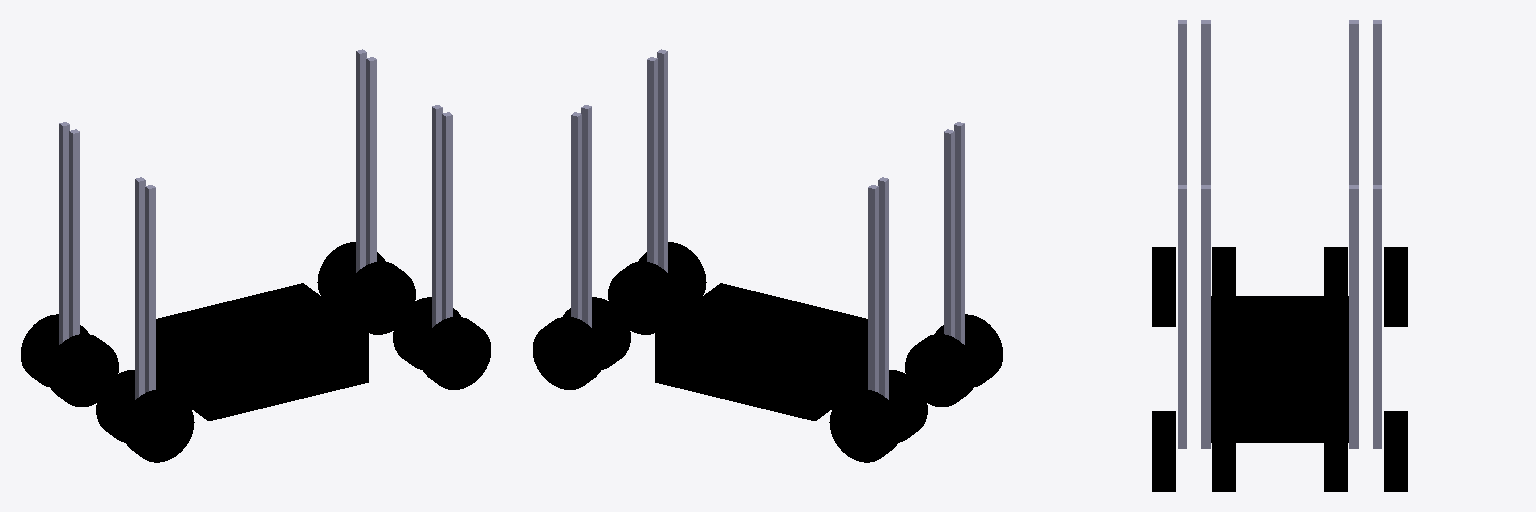
The robot description file, URDF, robot "quadruped":
<?xml version="1.0" ?>
<robot name="quadruped">
  <link name="base_chassis_link">
    <visual>
      <geometry>
        <box size=".226 0.16 .07"/>
      </geometry>
      <material name="black">
        <color rgba="0 0 0 1"/>
      </material>
    </visual>
    <collision>
      <geometry>
       <box size=".226 0.16 .07"/>
      </geometry>
    </collision>
    <inertial>
      <mass value="3.2"/>
      <inertia ixx="1.0" ixy="0.0" ixz="0.0" iyy="1.0" iyz="0.0" izz="1.0"/>
    </inertial>
  </link>
  
  
  <link name="motor_front_rightR_link">
    <visual>
      <geometry>
        <cylinder length="0.026" radius="0.0434"/>
      </geometry>
      <material name="black"/>
    </visual>
    <collision>
      <geometry>
        <cylinder length="0.026" radius="0.0434"/>
      </geometry>
    </collision>
    <inertial>
      <mass value="0.25"/>
      <inertia ixx="1.0" ixy="0.0" ixz="0.0" iyy="1.0" iyz="0.0" izz="1.0"/>
    </inertial>
  </link>
  <joint name="motor_front_rightR_joint" type="continuous">
    <axis xyz="0 0 1"/>
    <parent link="base_chassis_link"/>
    <child link="motor_front_rightR_link"/>
    <origin rpy="1.57075 0 0" xyz="0.21 -0.125 0"/>
    <limit effort="100" velocity="100"/>
    <joint_properties damping="0.0" friction="0.0"/>
  </joint>


	<link name="motor_front_rightL_link">
    <visual>
      <geometry>
        <cylinder length="0.026" radius="0.0434"/>
      </geometry>
      <material name="black"/>
    </visual>
    <collision>
      <geometry>
        <cylinder length="0.026" radius="0.0434"/>
      </geometry>
    </collision>
    <inertial>
      <mass value="0.25"/>
      <inertia ixx="1.0" ixy="0.0" ixz="0.0" iyy="1.0" iyz="0.0" izz="1.0"/>
    </inertial>
  </link>
  <joint name="motor_front_rightL_joint" type="continuous">
    <axis xyz="0 0 1"/>
    <parent link="base_chassis_link"/>
    <child link="motor_front_rightL_link"/>
    <origin rpy="1.57075 0 0" xyz="0.21 -0.06 0"/>
    <limit effort="100" velocity="100"/>
    <joint_properties damping="0.0" friction="0.0"/>
  </joint>
  
  
  <link name="motor_front_leftR_link">
    <visual>
      <geometry>
        <cylinder length="0.026" radius="0.0434"/>
      </geometry>
      <material name="black"/>
    </visual>
    <collision>
      <geometry>
        <cylinder length="0.026" radius="0.0434"/>
      </geometry>
    </collision>
    <inertial>
      <mass value="0.25"/>
      <inertia ixx="1.0" ixy="0.0" ixz="0.0" iyy="1.0" iyz="0.0" izz="1.0"/>
    </inertial>
  </link>
  <joint name="motor_front_leftR_joint" type="continuous">
    <axis xyz="0 0 1"/>
    <parent link="base_chassis_link"/>
    <child link="motor_front_leftR_link"/>
    <origin rpy="1.57075 0 0" xyz="0.21 0.125 0"/>
    <limit effort="100" velocity="100"/>
    <joint_properties damping="0.0" friction="0.0"/>
  </joint>


	<link name="motor_front_leftL_link">
    <visual>
      <geometry>
        <cylinder length="0.026" radius="0.0434"/>
      </geometry>
      <material name="black"/>
    </visual>
    <collision>
      <geometry>
        <cylinder length="0.026" radius="0.0434"/>
      </geometry>
    </collision>
    <inertial>
      <mass value="0.25"/>
      <inertia ixx="1.0" ixy="0.0" ixz="0.0" iyy="1.0" iyz="0.0" izz="1.0"/>
    </inertial>
  </link>
  <joint name="motor_front_leftL_joint" type="continuous">
    <axis xyz="0 0 1"/>
    <parent link="base_chassis_link"/>
    <child link="motor_front_leftL_link"/>
    <origin rpy="1.57075 0 0" xyz="0.21 0.06 0"/>
    <limit effort="100" velocity="100"/>
    <joint_properties damping="0.0" friction="0.0"/>
  </joint>
  
  
  <link name="motor_back_rightR_link">
    <visual>
      <geometry>
        <cylinder length="0.026" radius="0.0434"/>
      </geometry>
      <material name="black"/>
    </visual>
    <collision>
      <geometry>
        <cylinder length="0.026" radius="0.0434"/>
      </geometry>
    </collision>
    <inertial>
      <mass value="0.25"/>
      <inertia ixx="1.0" ixy="0.0" ixz="0.0" iyy="1.0" iyz="0.0" izz="1.0"/>
    </inertial>
  </link>
  <joint name="motor_back_rightR_joint" type="continuous">
    <axis xyz="0 0 1"/>
    <parent link="base_chassis_link"/>
    <child link="motor_back_rightR_link"/>
    <origin rpy="1.57075 0 0" xyz="-0.21 -0.125 0"/>
    <limit effort="100" velocity="100"/>
    <joint_properties damping="0.0" friction="0.0"/>
  </joint>


	<link name="motor_back_rightL_link">
    <visual>
      <geometry>
        <cylinder length="0.026" radius="0.0434"/>
      </geometry>
      <material name="black"/>
    </visual>
    <collision>
      <geometry>
        <cylinder length="0.026" radius="0.0434"/>
      </geometry>
    </collision>
    <inertial>
      <mass value="0.25"/>
      <inertia ixx="1.0" ixy="0.0" ixz="0.0" iyy="1.0" iyz="0.0" izz="1.0"/>
    </inertial>
  </link>
  <joint name="motor_back_rightL_joint" type="continuous">
    <axis xyz="0 0 1"/>
    <parent link="base_chassis_link"/>
    <child link="motor_back_rightL_link"/>
    <origin rpy="1.57075 0 0" xyz="-0.21 -0.06 0"/>
    <limit effort="100" velocity="100"/>
    <joint_properties damping="0.0" friction="0.0"/>
  </joint>
  
  
  <link name="motor_back_leftR_link">
    <visual>
      <geometry>
        <cylinder length="0.026" radius="0.0434"/>
      </geometry>
      <material name="black"/>
    </visual>
    <collision>
      <geometry>
        <cylinder length="0.026" radius="0.0434"/>
      </geometry>
    </collision>
    <inertial>
      <mass value="0.25"/>
      <inertia ixx="1.0" ixy="0.0" ixz="0.0" iyy="1.0" iyz="0.0" izz="1.0"/>
    </inertial>
  </link>
  <joint name="motor_back_leftR_joint" type="continuous">
    <axis xyz="0 0 1"/>
    <parent link="base_chassis_link"/>
    <child link="motor_back_leftR_link"/>
    <origin rpy="1.57075 0 0" xyz="-0.21 0.125 0"/>
    <limit effort="100" velocity="100"/>
    <joint_properties damping="0.0" friction="0.0"/>
  </joint>


	<link name="motor_back_leftL_link">
    <visual>
      <geometry>
        <cylinder length="0.026" radius="0.0434"/>
      </geometry>
      <material name="black"/>
    </visual>
    <collision>
      <geometry>
        <cylinder length="0.026" radius="0.0434"/>
      </geometry>
    </collision>
    <inertial>
      <mass value="0.25"/>
      <inertia ixx="1.0" ixy="0.0" ixz="0.0" iyy="1.0" iyz="0.0" izz="1.0"/>
    </inertial>
  </link>
  <joint name="motor_back_leftL_joint" type="continuous">
    <axis xyz="0 0 1"/>
    <parent link="base_chassis_link"/>
    <child link="motor_back_leftL_link"/>
    <origin rpy="1.57075 0 0" xyz="-0.21 0.06 0"/>
    <limit effort="100" velocity="100"/>
    <joint_properties damping="0.0" friction="0.0"/>
  </joint>
  
  
  <link name="upper_leg_back_leftL_link">
    <visual>
      <geometry>
        <box size=".01 0.01 .11"/>
      </geometry>
      <material name="grey">
        <color rgba="0.65 0.65 0.75 1"/>
      </material>
    </visual>
    <collision>
      <geometry>
        <box size=".01 0.01 .11"/>
      </geometry>
    </collision>
    <inertial>
      <mass value="0.05"/>
      <inertia ixx="1.0" ixy="0.0" ixz="0.0" iyy="1.0" iyz="0.0" izz="1.0"/>
    </inertial>
  </link>
  <joint name="motor_back_leftL_link" type="fixed">
    <axis xyz="0 0 1"/>
    <parent link="motor_back_leftL_link"/>
    <child link="upper_leg_back_leftL_link"/>
    <origin rpy="-1.57075 0 0" xyz="0.0 0.06 -0.02"/>
    <limit effort="100" velocity="100"/>
    <joint_properties damping="0.0" friction="0.0"/>
  </joint>

	<link name="upper_leg_back_leftR_link">
    <visual>
      <geometry>
        <box size=".01 0.01 .11"/>
      </geometry>
      <material name="grey">
        <color rgba="0.65 0.65 0.75 1"/>
      </material>
    </visual>
    <collision>
      <geometry>
        <box size=".01 0.01 .11"/>
      </geometry>
    </collision>
    <inertial>
      <mass value="0.05"/>
      <inertia ixx="1.0" ixy="0.0" ixz="0.0" iyy="1.0" iyz="0.0" izz="1.0"/>
    </inertial>
  </link>
  <joint name="hip_leftR_link" type="fixed">
    <axis xyz="0 0 1"/>
    <parent link="motor_back_leftR_link"/>
    <child link="upper_leg_back_leftR_link"/>
    <origin rpy="-1.57075 0 0" xyz="0.0 0.06 0.02"/>
    <limit effort="100" velocity="100"/>
    <joint_properties damping="0.0" friction="0.0"/>
  </joint>

	<link name="lower_leg_back_leftR_link">
    <visual>
    	<origin rpy="0.0 0 0" xyz="0 0 .1"/>
      <geometry>
        <box size=".01 0.01 .2"/>
      </geometry>
      <material name="grey">
        <color rgba="0.65 0.65 0.75 1"/>
      </material>
    </visual>
    <collision>
    	<origin rpy="0.0 0 0" xyz="0 0 .1"/>
      <geometry>
        <box size=".01 0.01 .2"/>
      </geometry>
    </collision>
    <inertial>
      <mass value="0.05"/>
      <inertia ixx="1.0" ixy="0.0" ixz="0.0" iyy="1.0" iyz="0.0" izz="1.0"/>
    </inertial>
  </link>
  <joint name="knee_back_leftR_link" type="revolute">
    <axis xyz="0 1 0"/>
    <parent link="upper_leg_back_leftR_link"/>
    <child link="lower_leg_back_leftR_link"/>
    <origin rpy="0 0 0" xyz="0.0 0.0 .055"/>
    <limit effort="100" velocity="100"/>
    <joint_properties damping="0.0" friction="0.0"/>
  </joint>
  
  <link name="lower_leg_back_leftL_link">
    <visual>
    	<origin rpy="0.0 0 0" xyz="0 0 .1"/>
      <geometry>
        <box size=".01 0.01 .2"/>
      </geometry>
      <material name="grey">
        <color rgba="0.65 0.65 0.75 1"/>
      </material>
    </visual>
    <collision>
    	<origin rpy="0.0 0 0" xyz="0 0 .1"/>
      <geometry>
        <box size=".01 0.01 .2"/>
      </geometry>
    </collision>
    <inertial>
      <mass value="0.05"/>
      <inertia ixx="1.0" ixy="0.0" ixz="0.0" iyy="1.0" iyz="0.0" izz="1.0"/>
    </inertial>
  </link>
  <joint name="knee_back_leftL_link" type="revolute">
    <axis xyz="0 1 0"/>
    <parent link="upper_leg_back_leftL_link"/>
    <child link="lower_leg_back_leftL_link"/>
    <origin rpy="0 0 0" xyz="0.0 0.0 .055"/>
    <limit effort="100" velocity="100"/>
    <joint_properties damping="0.0" friction="0.0"/>
  </joint>
  
  <link name="upper_leg_front_leftL_link">
    <visual>
      <geometry>
        <box size=".01 0.01 .11"/>
      </geometry>
      <material name="grey">
        <color rgba="0.65 0.65 0.75 1"/>
      </material>
    </visual>
    <collision>
      <geometry>
        <box size=".01 0.01 .11"/>
      </geometry>
    </collision>
    <inertial>
      <mass value="0.05"/>
      <inertia ixx="1.0" ixy="0.0" ixz="0.0" iyy="1.0" iyz="0.0" izz="1.0"/>
    </inertial>
  </link>
  <joint name="motor_front_leftL_link" type="fixed">
    <axis xyz="0 0 1"/>
    <parent link="motor_front_leftL_link"/>
    <child link="upper_leg_front_leftL_link"/>
    <origin rpy="-1.57075 0 0" xyz="0.0 0.06 -0.02"/>
    <limit effort="100" velocity="100"/>
    <joint_properties damping="0.0" friction="0.0"/>
  </joint>

	<link name="upper_leg_front_leftR_link">
    <visual>
      <geometry>
        <box size=".01 0.01 .11"/>
      </geometry>
      <material name="grey">
        <color rgba="0.65 0.65 0.75 1"/>
      </material>
    </visual>
    <collision>
      <geometry>
        <box size=".01 0.01 .11"/>
      </geometry>
    </collision>
    <inertial>
      <mass value="0.05"/>
      <inertia ixx="1.0" ixy="0.0" ixz="0.0" iyy="1.0" iyz="0.0" izz="1.0"/>
    </inertial>
  </link>
  <joint name="hip_front_leftR_link" type="fixed">
    <axis xyz="0 0 1"/>
    <parent link="motor_front_leftR_link"/>
    <child link="upper_leg_front_leftR_link"/>
    <origin rpy="-1.57075 0 0" xyz="0.0 0.06 0.02"/>
    <limit effort="100" velocity="100"/>
    <joint_properties damping="0.0" friction="0.0"/>
  </joint>

	<link name="lower_leg_front_leftR_link">
    <visual>
    	<origin rpy="0.0 0 0" xyz="0 0 .1"/>
      <geometry>
        <box size=".01 0.01 .2"/>
      </geometry>
      <material name="grey">
        <color rgba="0.65 0.65 0.75 1"/>
      </material>
    </visual>
    <collision>
    	<origin rpy="0.0 0 0" xyz="0 0 .1"/>
      <geometry>
        <box size=".01 0.01 .2"/>
      </geometry>
    </collision>
    <inertial>
      <mass value="0.05"/>
      <inertia ixx="1.0" ixy="0.0" ixz="0.0" iyy="1.0" iyz="0.0" izz="1.0"/>
    </inertial>
  </link>
  <joint name="knee_front_leftR_link" type="revolute">
    <axis xyz="0 1 0"/>
    <parent link="upper_leg_front_leftR_link"/>
    <child link="lower_leg_front_leftR_link"/>
    <origin rpy="0 0 0" xyz="0.0 0.0 .055"/>
    <limit effort="100" velocity="100"/>
    <joint_properties damping="0.0" friction="0.0"/>
  </joint>
  
  <link name="lower_leg_front_leftL_link">
    <visual>
    	<origin rpy="0.0 0 0" xyz="0 0 .1"/>
      <geometry>
        <box size=".01 0.01 .2"/>
      </geometry>
      <material name="grey">
        <color rgba="0.65 0.65 0.75 1"/>
      </material>
    </visual>
    <collision>
    	<origin rpy="0.0 0 0" xyz="0 0 .1"/>
      <geometry>
        <box size=".01 0.01 .2"/>
      </geometry>
    </collision>
    <inertial>
      <mass value="0.05"/>
      <inertia ixx="1.0" ixy="0.0" ixz="0.0" iyy="1.0" iyz="0.0" izz="1.0"/>
    </inertial>
  </link>
  <joint name="knee_front_leftL_link" type="revolute">
    <axis xyz="0 1 0"/>
    <parent link="upper_leg_front_leftL_link"/>
    <child link="lower_leg_front_leftL_link"/>
    <origin rpy="0 0 0" xyz="0.0 0.0 .055"/>
    <limit effort="100" velocity="100"/>
    <joint_properties damping="0.0" friction="0.0"/>
  </joint>
  
  
  
  
  <link name="upper_leg_back_rightL_link">
    <visual>
      <geometry>
        <box size=".01 0.01 .11"/>
      </geometry>
      <material name="grey">
        <color rgba="0.65 0.65 0.75 1"/>
      </material>
    </visual>
    <collision>
      <geometry>
        <box size=".01 0.01 .11"/>
      </geometry>
    </collision>
    <inertial>
      <mass value="0.05"/>
      <inertia ixx="1.0" ixy="0.0" ixz="0.0" iyy="1.0" iyz="0.0" izz="1.0"/>
    </inertial>
  </link>
  <joint name="motor_back_rightL_link" type="fixed">
    <axis xyz="0 0 1"/>
    <parent link="motor_back_rightL_link"/>
    <child link="upper_leg_back_rightL_link"/>
    <origin rpy="-1.57075 0 0" xyz="0.0 0.06 0.02"/>
    <limit effort="100" velocity="100"/>
    <joint_properties damping="0.0" friction="0.0"/>
  </joint>

	<link name="upper_leg_back_rightR_link">
    <visual>
      <geometry>
        <box size=".01 0.01 .11"/>
      </geometry>
      <material name="grey">
        <color rgba="0.65 0.65 0.75 1"/>
      </material>
    </visual>
    <collision>
      <geometry>
        <box size=".01 0.01 .11"/>
      </geometry>
    </collision>
    <inertial>
      <mass value="0.05"/>
      <inertia ixx="1.0" ixy="0.0" ixz="0.0" iyy="1.0" iyz="0.0" izz="1.0"/>
    </inertial>
  </link>
  <joint name="hip_rightR_link" type="fixed">
    <axis xyz="0 0 1"/>
    <parent link="motor_back_rightR_link"/>
    <child link="upper_leg_back_rightR_link"/>
    <origin rpy="-1.57075 0 0" xyz="0.0 0.06 -0.02"/>
    <limit effort="100" velocity="100"/>
    <joint_properties damping="0.0" friction="0.0"/>
  </joint>

	<link name="lower_leg_back_rightR_link">
    <visual>
    	<origin rpy="0.0 0 0" xyz="0 0 .1"/>
      <geometry>
        <box size=".01 0.01 .2"/>
      </geometry>
      <material name="grey">
        <color rgba="0.65 0.65 0.75 1"/>
      </material>
    </visual>
    <collision>
    	<origin rpy="0.0 0 0" xyz="0 0 .1"/>
      <geometry>
        <box size=".01 0.01 .2"/>
      </geometry>
    </collision>
    <inertial>
      <mass value="0.05"/>
      <inertia ixx="1.0" ixy="0.0" ixz="0.0" iyy="1.0" iyz="0.0" izz="1.0"/>
    </inertial>
  </link>
  <joint name="knee_back_rightR_link" type="revolute">
    <axis xyz="0 1 0"/>
    <parent link="upper_leg_back_rightR_link"/>
    <child link="lower_leg_back_rightR_link"/>
    <origin rpy="0 0 0" xyz="0.0 0.0 .055"/>
    <limit effort="100" velocity="100"/>
    <joint_properties damping="0.0" friction="0.0"/>
  </joint>
  
  <link name="lower_leg_back_rightL_link">
    <visual>
    	<origin rpy="0.0 0 0" xyz="0 0 .1"/>
      <geometry>
        <box size=".01 0.01 .2"/>
      </geometry>
      <material name="grey">
        <color rgba="0.65 0.65 0.75 1"/>
      </material>
    </visual>
    <collision>
    	<origin rpy="0.0 0 0" xyz="0 0 .1"/>
      <geometry>
        <box size=".01 0.01 .2"/>
      </geometry>
    </collision>
    <inertial>
      <mass value="0.05"/>
      <inertia ixx="1.0" ixy="0.0" ixz="0.0" iyy="1.0" iyz="0.0" izz="1.0"/>
    </inertial>
  </link>
  <joint name="knee_back_rightL_link" type="revolute">
    <axis xyz="0 1 0"/>
    <parent link="upper_leg_back_rightL_link"/>
    <child link="lower_leg_back_rightL_link"/>
    <origin rpy="0 0 0" xyz="0.0 0.0 .055"/>
    <limit effort="100" velocity="100"/>
    <joint_properties damping="0.0" friction="0.0"/>
  </joint>
  
  <link name="upper_leg_front_rightL_link">
    <visual>
      <geometry>
        <box size=".01 0.01 .11"/>
      </geometry>
      <material name="grey">
        <color rgba="0.65 0.65 0.75 1"/>
      </material>
    </visual>
    <collision>
      <geometry>
        <box size=".01 0.01 .11"/>
      </geometry>
    </collision>
    <inertial>
      <mass value="0.05"/>
      <inertia ixx="1.0" ixy="0.0" ixz="0.0" iyy="1.0" iyz="0.0" izz="1.0"/>
    </inertial>
  </link>
  <joint name="motor_front_rightL_link" type="fixed">
    <axis xyz="0 0 1"/>
    <parent link="motor_front_rightL_link"/>
    <child link="upper_leg_front_rightL_link"/>
    <origin rpy="-1.57075 0 0" xyz="0.0 0.06 0.02"/>
    <limit effort="100" velocity="100"/>
    <joint_properties damping="0.0" friction="0.0"/>
  </joint>

	<link name="upper_leg_front_rightR_link">
    <visual>
      <geometry>
        <box size=".01 0.01 .11"/>
      </geometry>
      <material name="grey">
        <color rgba="0.65 0.65 0.75 1"/>
      </material>
    </visual>
    <collision>
      <geometry>
        <box size=".01 0.01 .11"/>
      </geometry>
    </collision>
    <inertial>
      <mass value="0.05"/>
      <inertia ixx="1.0" ixy="0.0" ixz="0.0" iyy="1.0" iyz="0.0" izz="1.0"/>
    </inertial>
  </link>
  <joint name="hip_front_rightR_link" type="fixed">
    <axis xyz="0 0 1"/>
    <parent link="motor_front_rightR_link"/>
    <child link="upper_leg_front_rightR_link"/>
    <origin rpy="-1.57075 0 0" xyz="0.0 0.06 -0.02"/>
    <limit effort="100" velocity="100"/>
    <joint_properties damping="0.0" friction="0.0"/>
  </joint>

	<link name="lower_leg_front_rightR_link">
    <visual>
    	<origin rpy="0.0 0 0" xyz="0 0 .1"/>
      <geometry>
        <box size=".01 0.01 .2"/>
      </geometry>
      <material name="grey">
        <color rgba="0.65 0.65 0.75 1"/>
      </material>
    </visual>
    <collision>
    	<origin rpy="0.0 0 0" xyz="0 0 .1"/>
      <geometry>
        <box size=".01 0.01 .2"/>
      </geometry>
    </collision>
    <inertial>
      <mass value="0.05"/>
      <inertia ixx="1.0" ixy="0.0" ixz="0.0" iyy="1.0" iyz="0.0" izz="1.0"/>
    </inertial>
  </link>
  <joint name="knee_front_rightR_link" type="revolute">
    <axis xyz="0 1 0"/>
    <parent link="upper_leg_front_rightR_link"/>
    <child link="lower_leg_front_rightR_link"/>
    <origin rpy="0 0 0" xyz="0.0 0.0 .055"/>
    <limit effort="100" velocity="100"/>
    <joint_properties damping="0.0" friction="0.0"/>
  </joint>
  
  <link name="lower_leg_front_rightL_link">
    <visual>
    	<origin rpy="0.0 0 0" xyz="0 0 .1"/>
      <geometry>
        <box size=".01 0.01 .2"/>
      </geometry>
      <material name="grey">
        <color rgba="0.65 0.65 0.75 1"/>
      </material>
    </visual>
    <collision>
    	<origin rpy="0.0 0 0" xyz="0 0 .1"/>
      <geometry>
        <box size=".01 0.01 .2"/>
      </geometry>
    </collision>
    <inertial>
      <mass value="0.05"/>
      <inertia ixx="1.0" ixy="0.0" ixz="0.0" iyy="1.0" iyz="0.0" izz="1.0"/>
    </inertial>
  </link>
  <joint name="knee_front_rightL_link" type="revolute">
    <axis xyz="0 1 0"/>
    <parent link="upper_leg_front_rightL_link"/>
    <child link="lower_leg_front_rightL_link"/>
    <origin rpy="0 0 0" xyz="0.0 0.0 .055"/>
    <limit effort="100" velocity="100"/>
    <joint_properties damping="0.0" friction="0.0"/>
  </joint>
  
  
  
 
 
</robot>


--- What the picture shows (computed from the rendered views, not written in the file) ---
The picture shows the robot from 3 angles, left to right: view 1: azimuth 30°, elevation 25°; view 2: azimuth 150°, elevation 25°; view 3: azimuth 270°, elevation 25°; orthographic projection.
Robot: quadruped — 25 links, 24 joints (8 revolute, 8 continuous, 8 fixed); root link base_chassis_link; default pose: every joint at zero.
Visible links, largest first — view 1: base_chassis_link, motor_back_rightR_link, motor_front_rightR_link, motor_back_leftL_link, motor_front_leftL_link, motor_front_rightL_link, motor_back_rightL_link, motor_back_leftR_link, motor_front_leftR_link, lower_leg_back_leftL_link, lower_leg_front_leftL_link, lower_leg_back_rightR_link (+13 smaller); view 2: base_chassis_link, motor_back_leftR_link, motor_front_leftR_link, motor_back_rightL_link, motor_front_rightL_link, motor_front_leftL_link, motor_back_leftL_link, motor_back_rightR_link, motor_front_rightR_link, lower_leg_back_rightL_link, lower_leg_back_leftR_link, lower_leg_front_leftR_link (+13 smaller); view 3: base_chassis_link, motor_front_rightR_link, motor_front_rightL_link, motor_front_leftR_link, motor_front_leftL_link, motor_back_rightR_link, motor_back_leftR_link, lower_leg_front_leftL_link, lower_leg_front_rightL_link, lower_leg_back_leftL_link, lower_leg_back_rightL_link, lower_leg_front_leftR_link (+9 smaller).
Link boxes in pixels (left/top/right/bottom): base_chassis_link: left=156, top=283, right=368, bottom=420; motor_back_rightR_link: left=123, top=389, right=194, bottom=462; motor_front_rightR_link: left=420, top=317, right=490, bottom=389; motor_back_leftL_link: left=47, top=334, right=118, bottom=406; motor_front_leftL_link: left=344, top=261, right=415, bottom=334; motor_front_rightL_link: left=393, top=297, right=460, bottom=369; motor_back_rightL_link: left=96, top=370, right=163, bottom=442; motor_back_leftR_link: left=21, top=314, right=88, bottom=386; motor_front_leftR_link: left=317, top=242, right=385, bottom=314; lower_leg_back_leftL_link: left=69, top=129, right=79, bottom=281; lower_leg_front_leftL_link: left=366, top=57, right=376, bottom=208; lower_leg_back_rightR_link: left=145, top=185, right=155, bottom=336; base_chassis_link: left=655, top=283, right=867, bottom=420; motor_back_leftR_link: left=829, top=389, right=900, bottom=462; motor_front_leftR_link: left=533, top=317, right=603, bottom=389; motor_back_rightL_link: left=905, top=334, right=976, bottom=406; motor_front_rightL_link: left=608, top=261, right=679, bottom=334; motor_front_leftL_link: left=563, top=297, right=630, bottom=369; motor_back_leftL_link: left=860, top=370, right=927, bottom=442; motor_back_rightR_link: left=935, top=314, right=1002, bottom=386; motor_front_rightR_link: left=638, top=242, right=706, bottom=314; lower_leg_back_rightL_link: left=944, top=129, right=954, bottom=281; lower_leg_back_leftR_link: left=868, top=185, right=878, bottom=336; lower_leg_front_leftR_link: left=571, top=112, right=581, bottom=264; base_chassis_link: left=1211, top=296, right=1348, bottom=442; motor_front_rightR_link: left=1152, top=411, right=1175, bottom=491; motor_front_rightL_link: left=1212, top=411, right=1235, bottom=491; motor_front_leftR_link: left=1384, top=411, right=1407, bottom=491; motor_front_leftL_link: left=1324, top=411, right=1347, bottom=491; motor_back_rightR_link: left=1152, top=247, right=1175, bottom=326; motor_back_leftR_link: left=1384, top=247, right=1407, bottom=326; lower_leg_front_leftL_link: left=1349, top=185, right=1358, bottom=356; lower_leg_front_rightL_link: left=1201, top=185, right=1210, bottom=356; lower_leg_back_leftL_link: left=1349, top=20, right=1358, bottom=184; lower_leg_back_rightL_link: left=1201, top=20, right=1210, bottom=184; lower_leg_front_leftR_link: left=1373, top=185, right=1381, bottom=356.
Size in the robot's own frame: 0.5068 by 0.276 by 0.3584 metres.
Geometry: primitives only (box / cylinder / sphere), no mesh files.